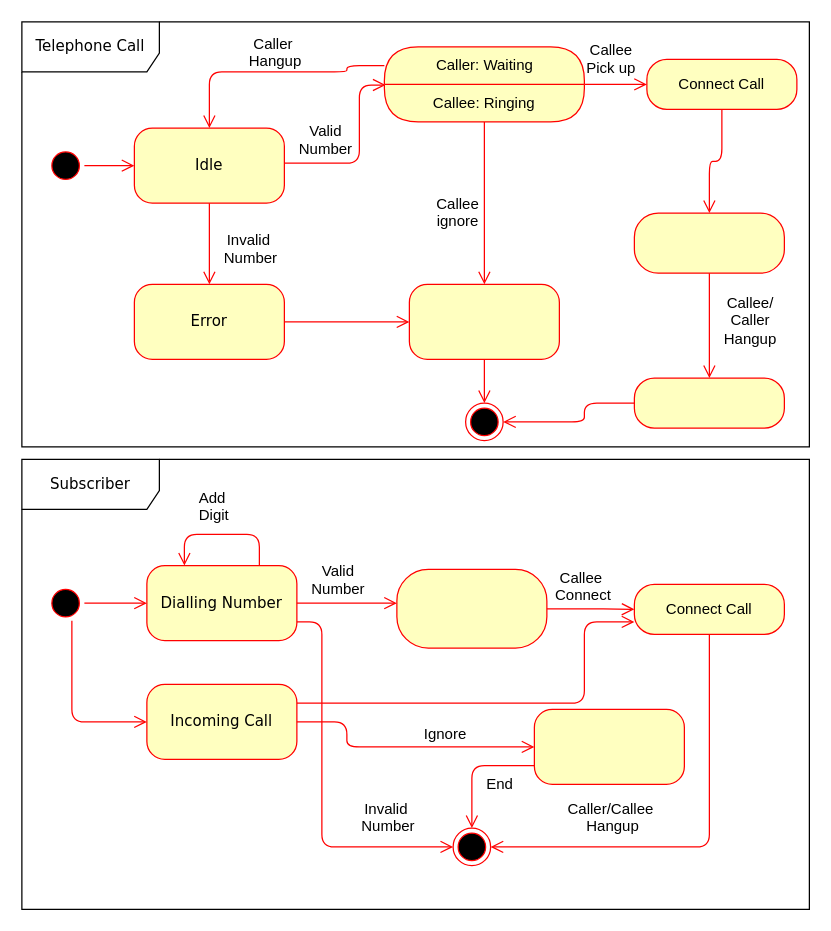
This 831x931 diagram has some shape labels left out. The shapes that lost their labels are listed below. From the top down, each one's centre as x and y in pixels, then its label:
At (708,242): "Ongoing Call".
At (483,321): "Connect Fail, Busy Tone".
At (708,402): "Disconnect".
At (471,608): "Outgoing Call".
At (608,746): "Reject call".
